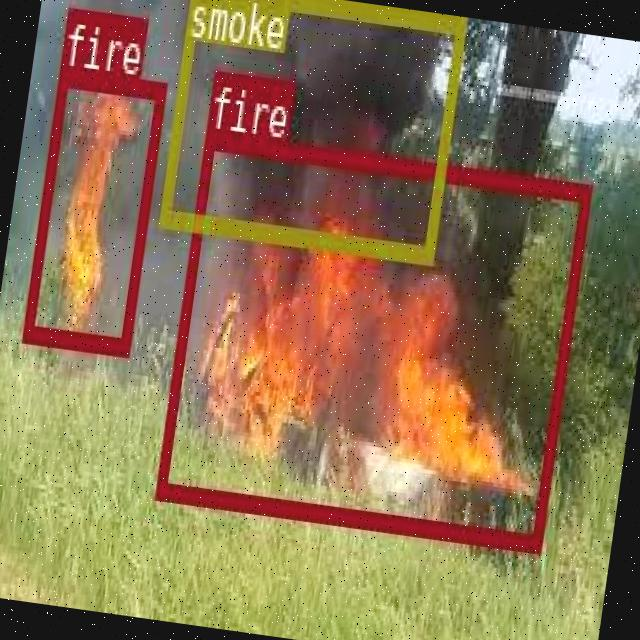fire: (154, 128, 590, 550), (22, 66, 165, 352)
smoke: (157, 0, 466, 259)
